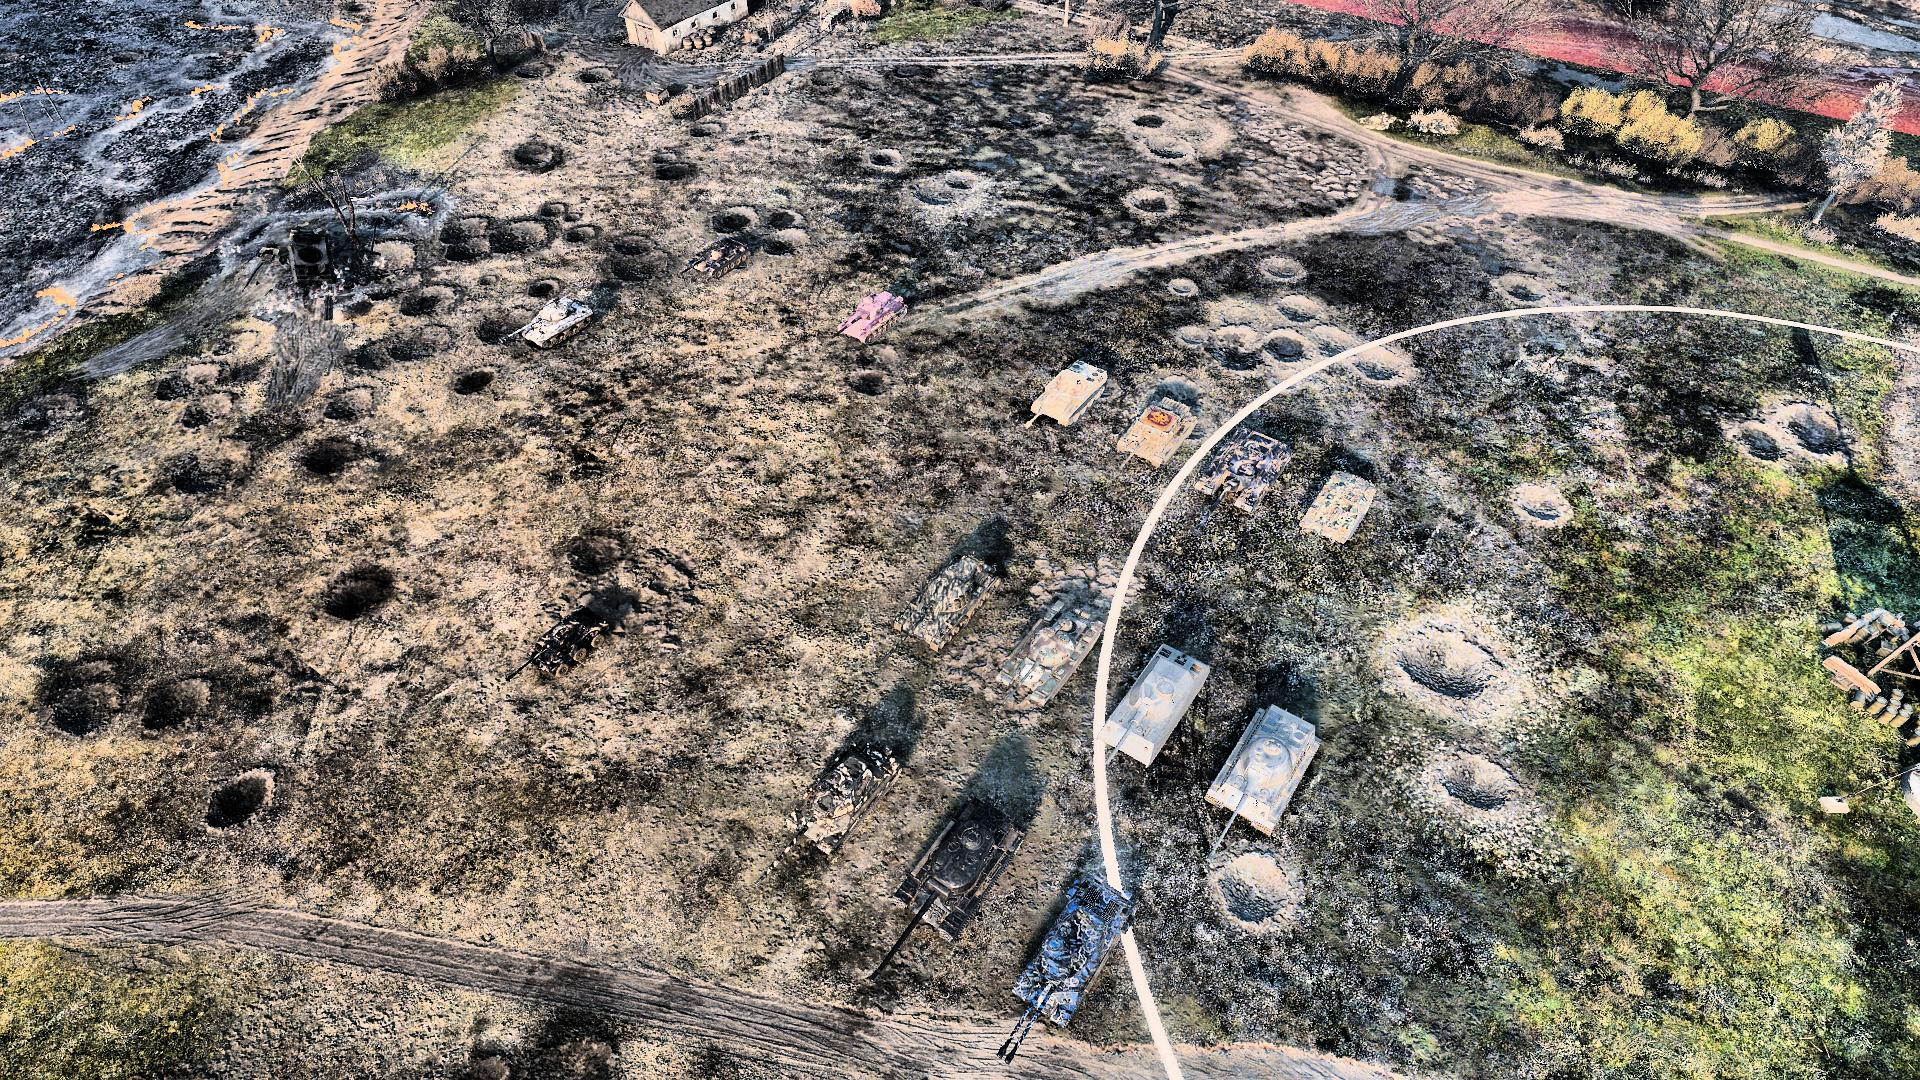military-vehicle: (866, 795, 1027, 984), (1000, 874, 1134, 1065), (750, 738, 899, 884), (1205, 703, 1319, 857), (1096, 644, 1211, 766), (992, 599, 1102, 717), (895, 550, 1000, 650), (1199, 429, 1290, 522), (504, 607, 607, 679), (1025, 360, 1108, 434), (1299, 467, 1375, 546), (1120, 397, 1197, 471), (501, 297, 595, 351), (833, 290, 910, 344), (679, 235, 750, 277)
